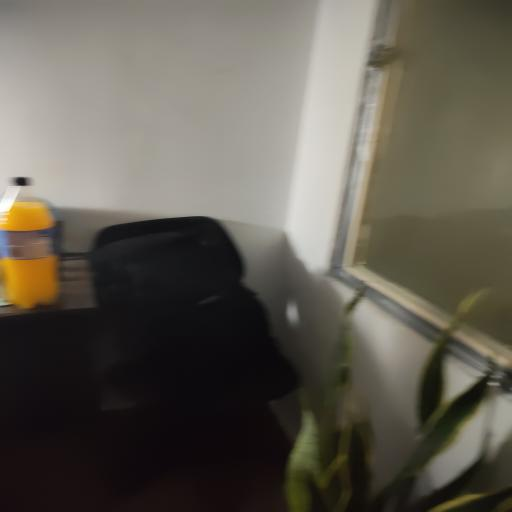Jugo del valle: (0, 178, 58, 308)
